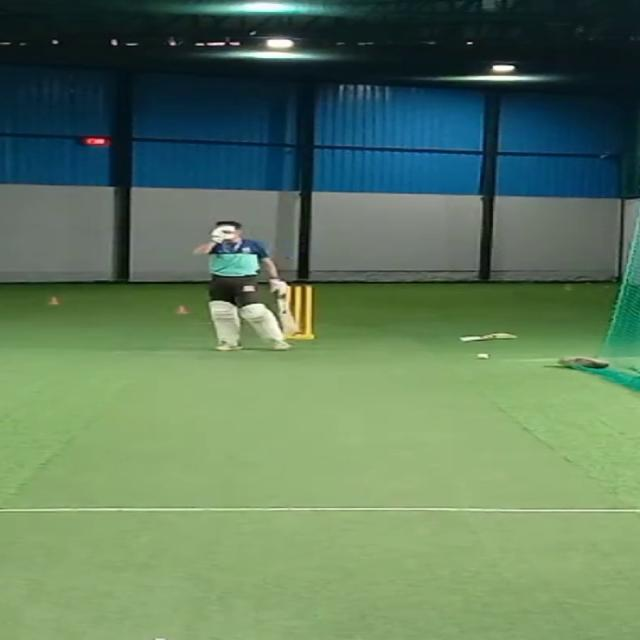ball: (465, 347, 501, 363)
stump: (290, 281, 316, 341)
